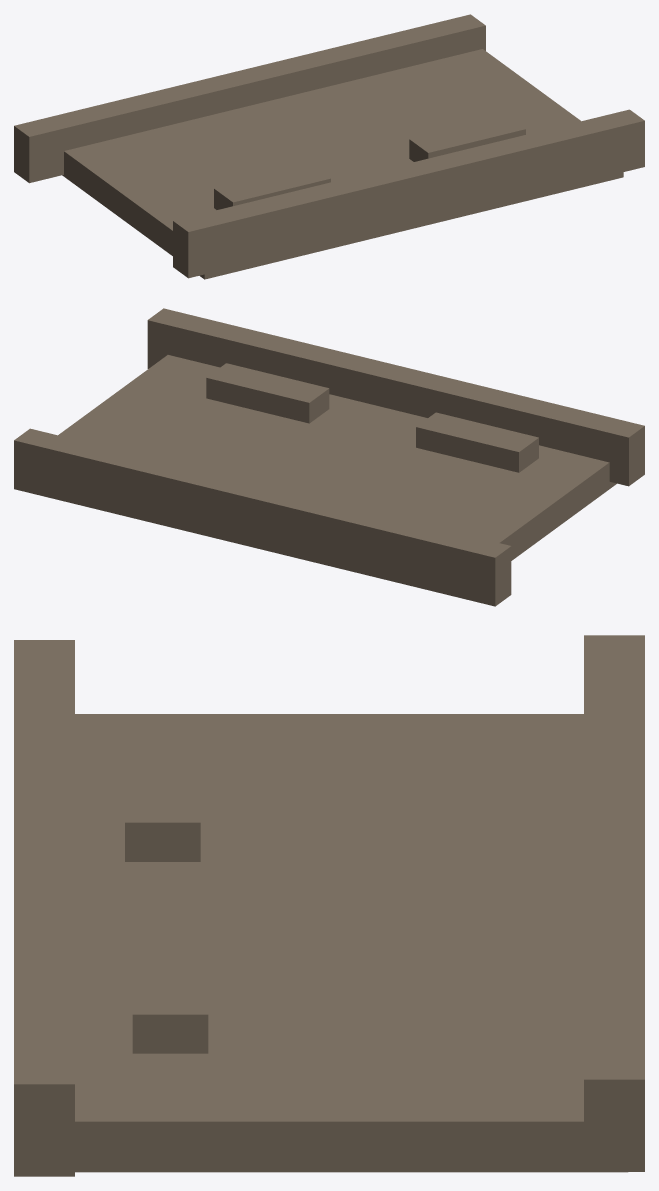
Rendered from LHS_Thingy.glb.
3 renders of one model, top to bottom at view 1: azimuth 30°, elevation 25°; view 2: azimuth 150°, elevation 25°; view 3: azimuth 270°, elevation 25°, orthographic. The views are drawn at different scales.
Visible parts, largest first — view 1: Cube.004; view 2: Cube.004; view 3: Cube.004.
Part boxes in pixels (x1,y1,x2,y2): Cube.004: [14, 14, 644, 279]; Cube.004: [14, 308, 644, 606]; Cube.004: [14, 635, 644, 1176].
Size of the model in its own units: 19.65 by 2.13 by 11.38.
